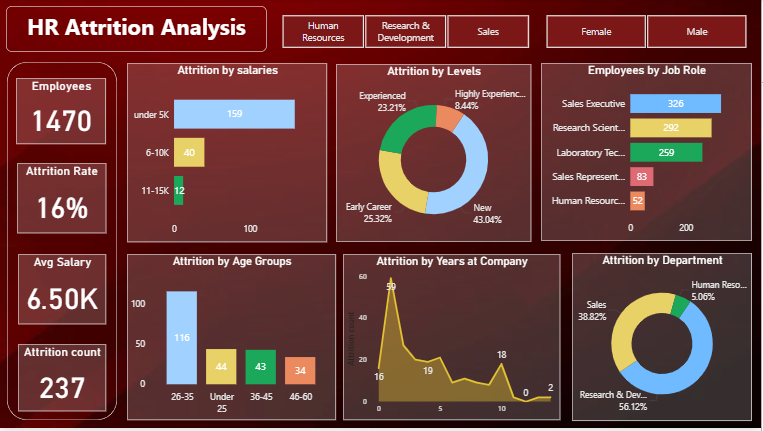

The dashboard page shown, as its layout file describes it:
{"tool":"powerbi","page":{"name":"Page 1","canvas":[1280,720],"ordinal":0},"visuals":[{"type":"textbox","box":[13.4,16.8,475.4,77.3],"z":0},{"type":"card","title":"Employees","fields":{"Values":["HR DATA MODIFIED.Total Employees"]},"box":[28.6,132.7,151.2,110.9],"z":1000},{"type":"card","title":"Attrition count","fields":{"Values":["HR DATA MODIFIED.Attrition count"]},"box":[31.9,579.5,147.8,112.5],"z":2000},{"type":"card","title":"Attrition Rate","fields":{"Values":["HR DATA MODIFIED.Attrition rate"]},"box":[30.2,275.5,149.5,117.6],"z":3000},{"type":"card","title":"Avg Salary","fields":{"Values":["HR DATA MODIFIED.Avg Sal"]},"box":[31.9,428.3,147.8,117.6],"z":4000},{"type":"donutChart","title":"Attrition by Department","fields":{"Category":["HR DATA MODIFIED.Department"],"Y":["HR DATA MODIFIED.Attrition count"]},"box":[962.5,426.7,302.4,282.2],"z":5000},{"type":"barChart","title":"Attrition by salaries","fields":{"Y":["HR DATA MODIFIED.Attrition count"],"Category":["HR DATA MODIFIED.Salaries"]},"box":[215,107.5,336,300.7],"z":6000},{"type":"columnChart","title":"Attrition by Age Groups","fields":{"Y":["HR DATA MODIFIED.Attrition count"],"Category":["HR DATA MODIFIED.Age Groups"]},"box":[215,428.3,351.1,278.8],"z":7000},{"type":"donutChart","title":"Attrition by Levels","fields":{"Y":["HR DATA MODIFIED.Attrition count"],"Category":["HR DATA MODIFIED.Experience Level"]},"box":[566.1,109.2,327.6,299],"z":8000},{"type":"slicer","fields":{"Values":["HR DATA MODIFIED.Department"]},"box":[489.3,20.8,657.5,68.1],"z":9000},{"type":"barChart","title":"Employees by Job Role","fields":{"Category":["HR DATA MODIFIED.JobRole"],"Y":["Sum(HR DATA MODIFIED.EmployeeCount)"]},"box":[910.4,107.5,354.4,299],"z":10000},{"type":"lineChart","title":"Attrition by Years at Company","fields":{"Y":["HR DATA MODIFIED.Attrition count"],"Category":["HR DATA MODIFIED.YearsAtCompany"]},"box":[577.8,428.3,364.5,278.8],"z":11000},{"type":"shape","box":[13.4,105.8,184.8,601.4],"z":12000},{"type":"actionButton","box":[1159.2,20.8,120.9,75.1],"z":12001}]}

Visuals, with their boxes in screenshot pixels (x1, y1, x2, y2), scaled from the page's 1280x720 canvas onto the 763x431 screenshot:
textbox: select_region(8, 10, 291, 56)
"Employees" card: select_region(17, 79, 107, 146)
"Attrition count" card: select_region(19, 347, 107, 414)
"Attrition Rate" card: select_region(18, 165, 107, 235)
"Avg Salary" card: select_region(19, 256, 107, 327)
"Attrition by Department" donutChart: select_region(574, 255, 754, 424)
"Attrition by salaries" barChart: select_region(128, 64, 328, 244)
"Attrition by Age Groups" columnChart: select_region(128, 256, 337, 423)
"Attrition by Levels" donutChart: select_region(337, 65, 533, 244)
slicer - HR DATA MODIFIED.Department: select_region(292, 12, 684, 53)
"Employees by Job Role" barChart: select_region(543, 64, 754, 243)
"Attrition by Years at Company" lineChart: select_region(344, 256, 562, 423)
shape: select_region(8, 63, 118, 423)
actionButton: select_region(691, 12, 762, 57)
